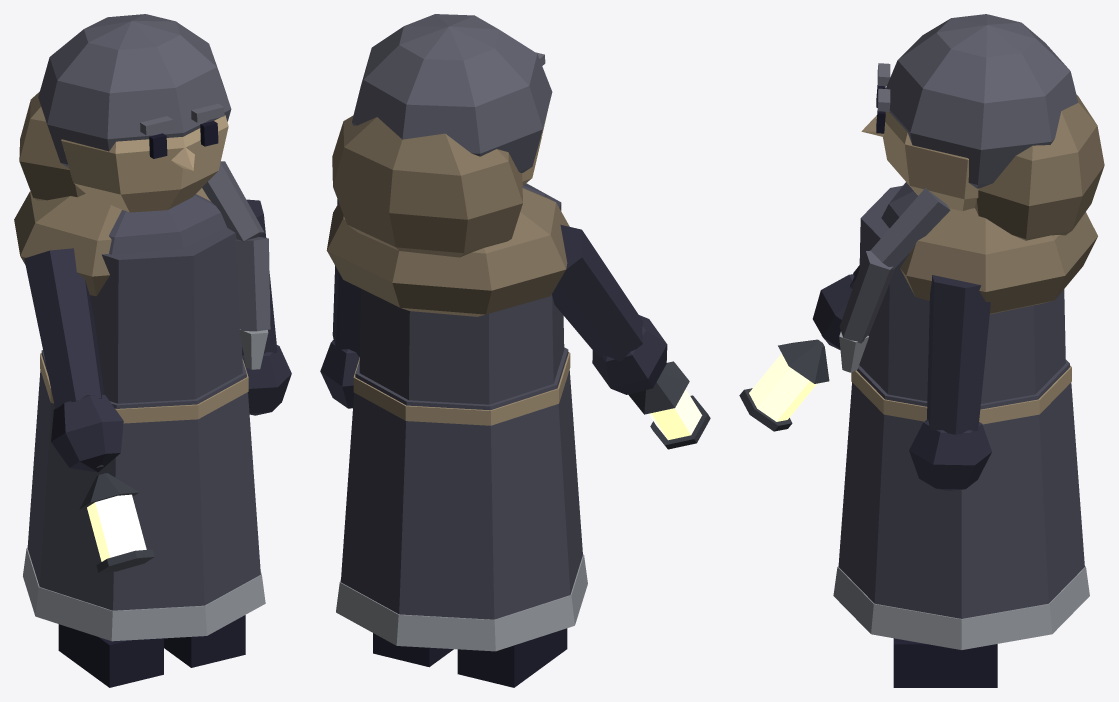
File: wenna_coll_lantern.glb
The picture shows the model from 3 angles, left to right: view 1: azimuth 30°, elevation 25°; view 2: azimuth 150°, elevation 25°; view 3: azimuth 270°, elevation 25°; orthographic projection. The views are drawn at different scales.
Parts seen in each view (by area): view 1: Torso, Head, ArmR, LegR, ArmL, LegL; view 2: Torso, Head, ArmR, ArmL, LegR, LegL; view 3: Torso, Head, ArmL, ArmR, LegL.
Part boxes in pixels (x1=…): Torso: x1=14, y1=161, x2=270, y2=641; Head: x1=19, y1=14, x2=231, y2=212; ArmR: x1=24, y1=248, x2=154, y2=572; LegR: x1=58, y1=624, x2=163, y2=687; ArmL: x1=242, y1=199, x2=291, y2=415; LegL: x1=164, y1=615, x2=245, y2=667; Torso: x1=326, y1=183, x2=587, y2=651; Head: x1=332, y1=14, x2=552, y2=257; ArmR: x1=552, y1=224, x2=710, y2=449; ArmL: x1=320, y1=199, x2=361, y2=408; LegR: x1=457, y1=628, x2=567, y2=687; LegL: x1=373, y1=633, x2=453, y2=667; Torso: x1=833, y1=182, x2=1097, y2=649; Head: x1=861, y1=14, x2=1104, y2=240; ArmL: x1=909, y1=275, x2=991, y2=490; ArmR: x1=739, y1=265, x2=859, y2=431; LegL: x1=893, y1=638, x2=997, y2=687.
Bounding box in the file's own units: 0.7992 × 1.73 × 0.9112.
